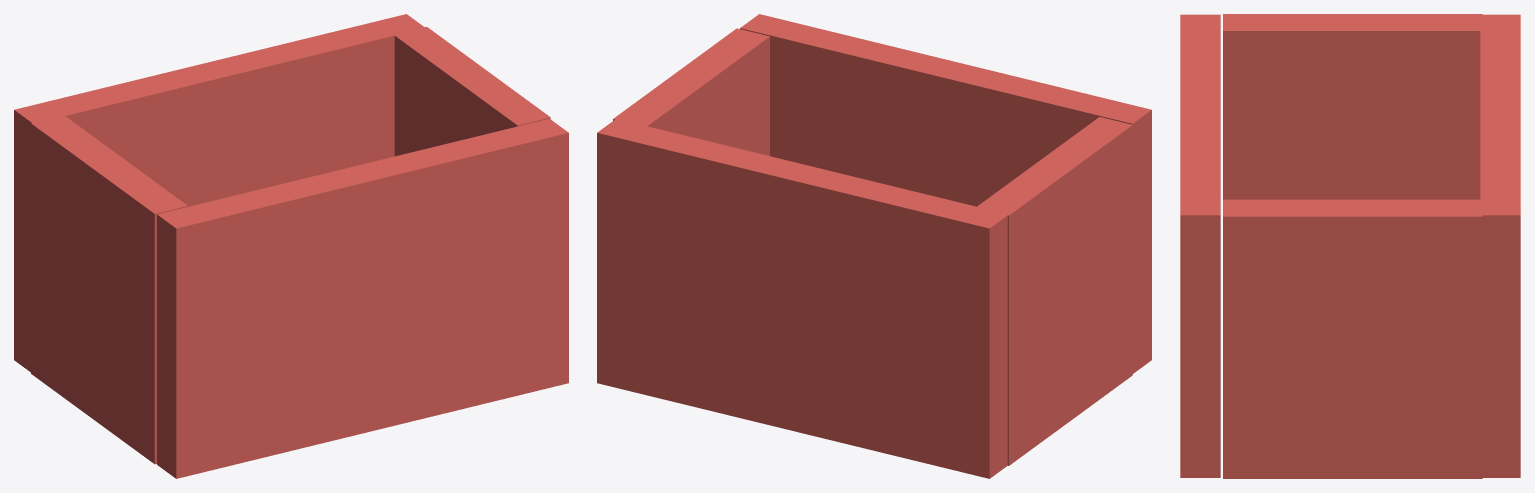
The model's file is yan.gltf.
3 views of the same model, side by side, from view 1: azimuth 30°, elevation 25°; view 2: azimuth 150°, elevation 25°; view 3: azimuth 270°, elevation 25° (orthographic). The views are drawn at different scales.
Parts seen in each view (by area): view 1: Cube; view 2: Cube; view 3: Cube.
Boxes of the visible parts, x1,y1,x2,y2 form: Cube: (14, 14, 568, 478); Cube: (597, 14, 1151, 478); Cube: (1180, 14, 1520, 478).
Size of the model in its own units: 13.61 by 8.23 by 9.66.
